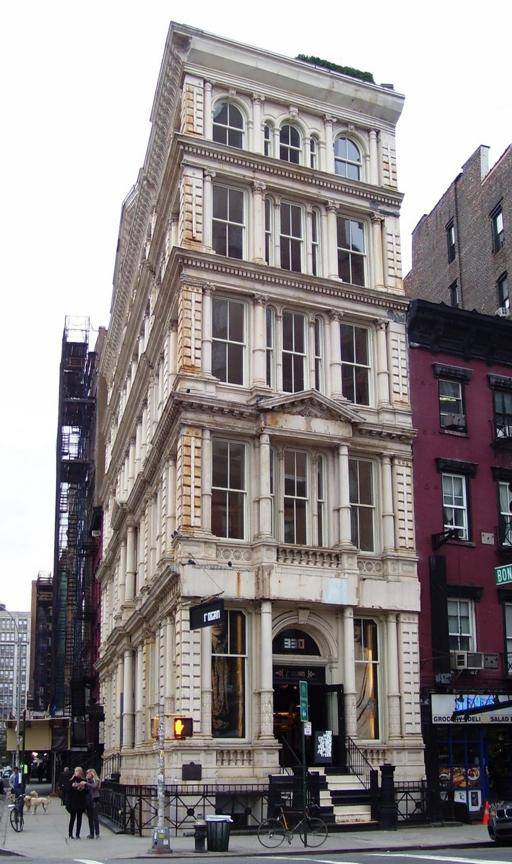non-vehicle: (256, 799, 328, 848), (10, 792, 26, 831)
